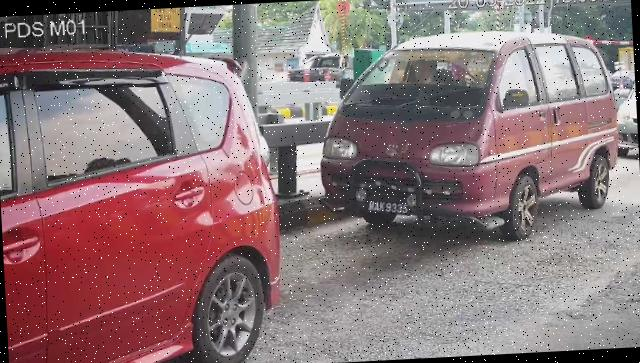License_Plate: (366, 195, 413, 221)
van: (315, 25, 625, 252)
